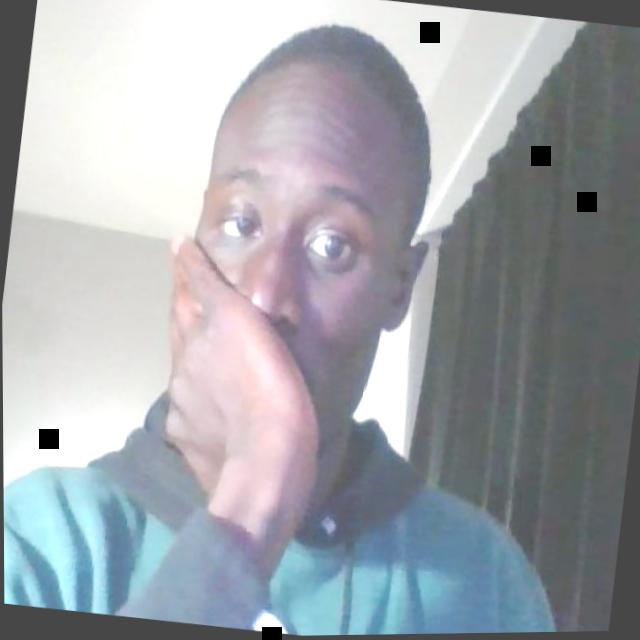NO-Mask: (169, 154, 420, 463)
